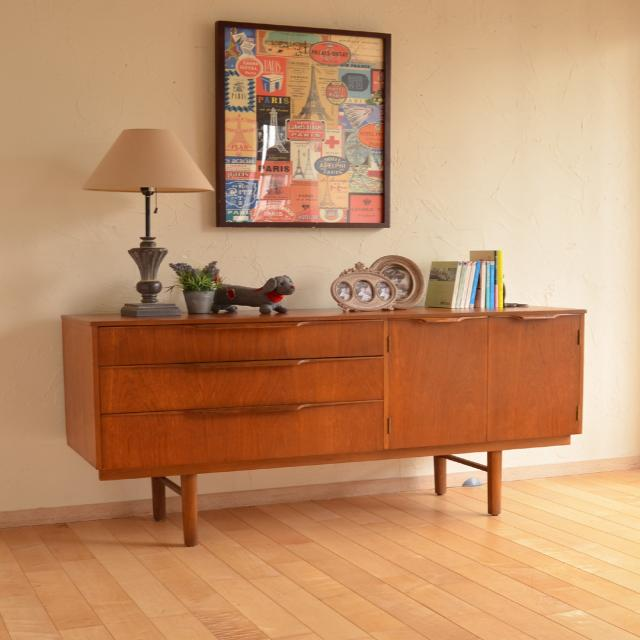vintage shelf: (64, 299, 581, 538)
